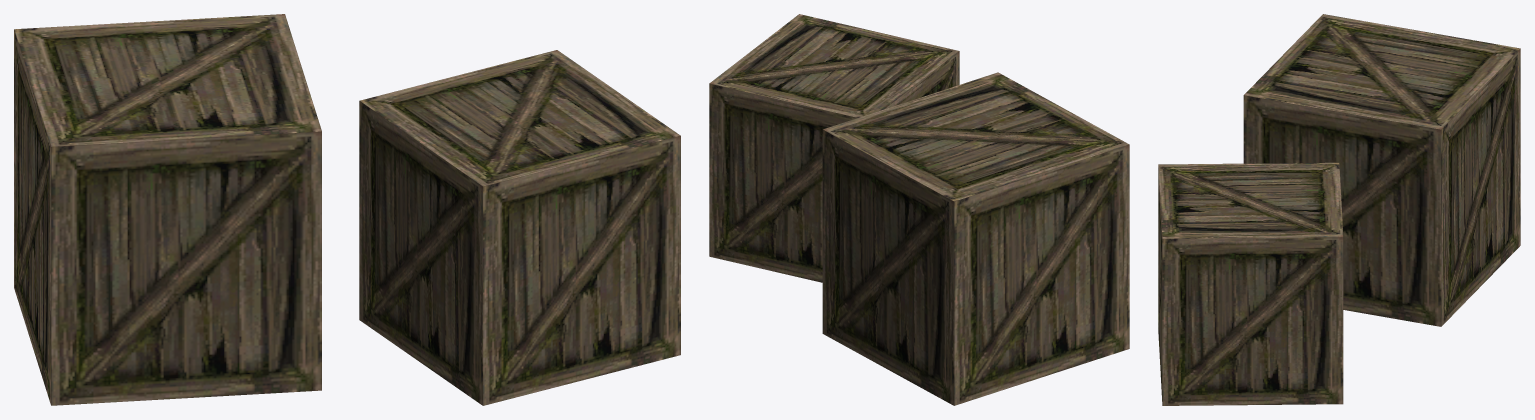
Rendered from muxiang_yc_23.fbx.
The picture shows the model from 3 angles, left to right: view 1: azimuth 30°, elevation 25°; view 2: azimuth 150°, elevation 25°; view 3: azimuth 270°, elevation 25°; orthographic projection. The views are drawn at different scales.
Parts seen in each view (by area): view 1: muxiang_yc_23; view 2: muxiang_yc_23; view 3: muxiang_yc_23.
Part boxes in pixels (x1,y1,x2,y2): muxiang_yc_23: (14, 14, 680, 405); muxiang_yc_23: (709, 14, 1129, 405); muxiang_yc_23: (1158, 14, 1520, 405).
Size of what is drawn, in the model's own units: 147 by 69.5 by 116.
